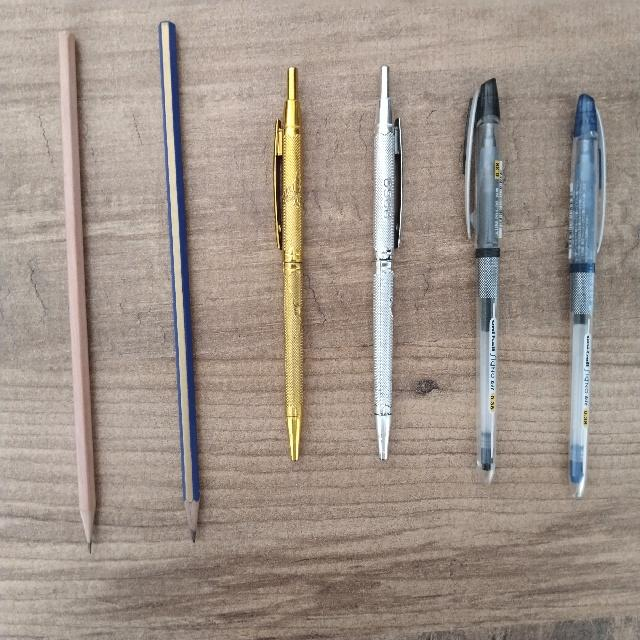pen: (464, 79, 501, 483), (569, 94, 605, 497)
pencil: (159, 22, 199, 541), (59, 31, 95, 551)
signature pen: (273, 67, 302, 460), (373, 66, 401, 459)
